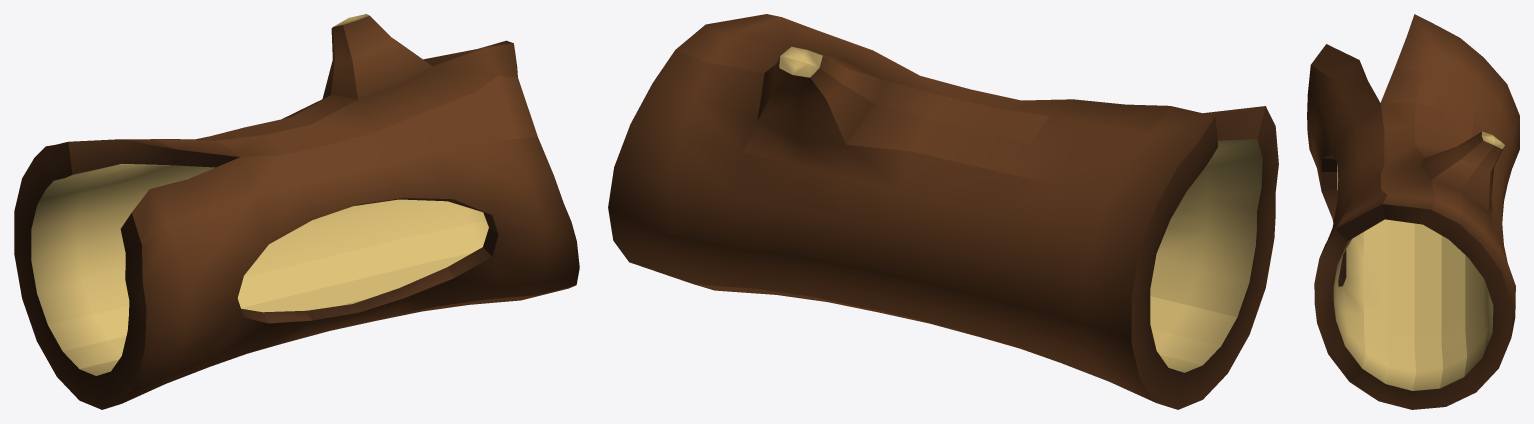
File: Log1.fbx
3 renders of one model, left to right at view 1: azimuth 30°, elevation 25°; view 2: azimuth 150°, elevation 25°; view 3: azimuth 270°, elevation 25°, orthographic. The views are drawn at different scales.
Parts seen in each view (by area): view 1: Log1; view 2: Log1; view 3: Log1.
Part boxes in pixels (bbox=[...]): Log1: bbox=[14, 14, 579, 409]; Log1: bbox=[608, 14, 1278, 409]; Log1: bbox=[1307, 14, 1519, 409].
Bounding box in the file's own units: 777 × 406 × 357.
